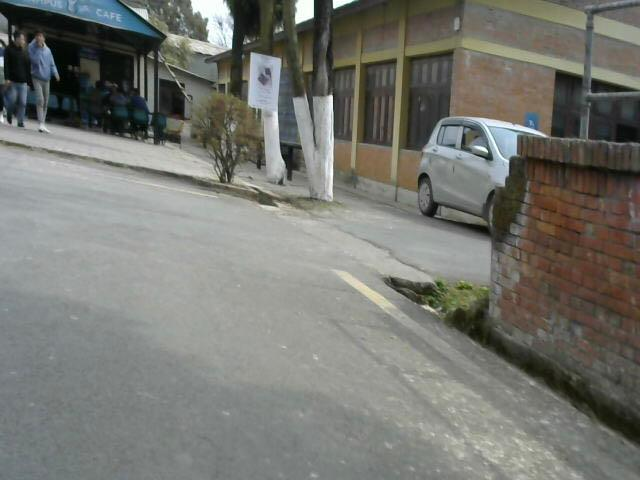Building: (4, 1, 180, 161)
Car: (417, 113, 497, 243)
Road: (6, 208, 639, 480)
Tree: (246, 0, 352, 194), (189, 88, 260, 184)
